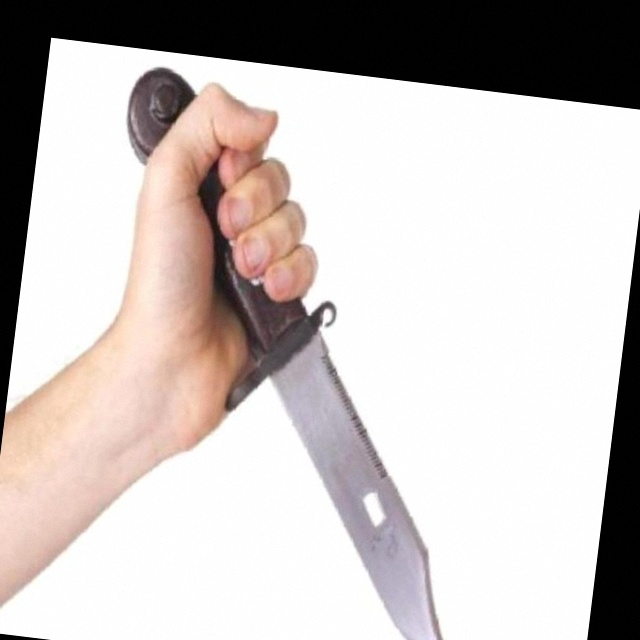Sharp-Object: (64, 62, 523, 640)
